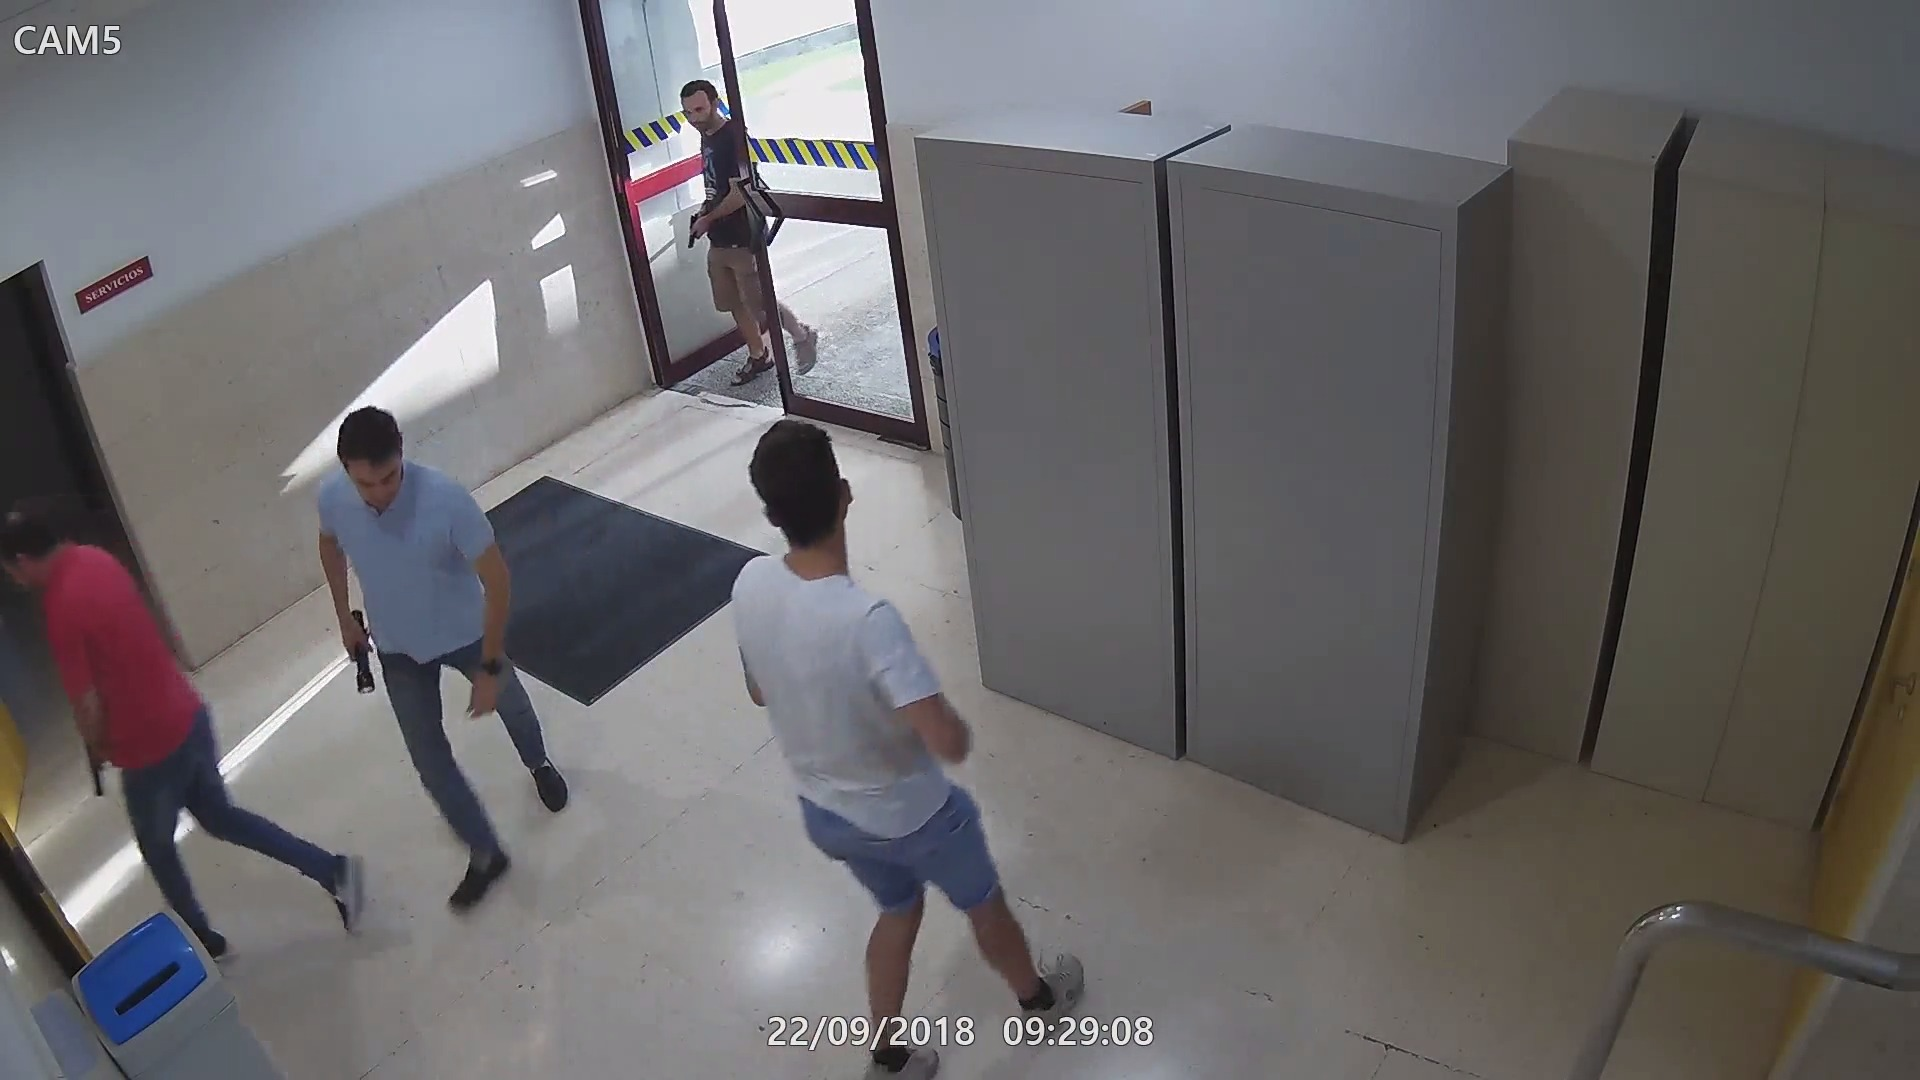Handgun: (66, 723, 117, 799), (684, 211, 711, 252)
